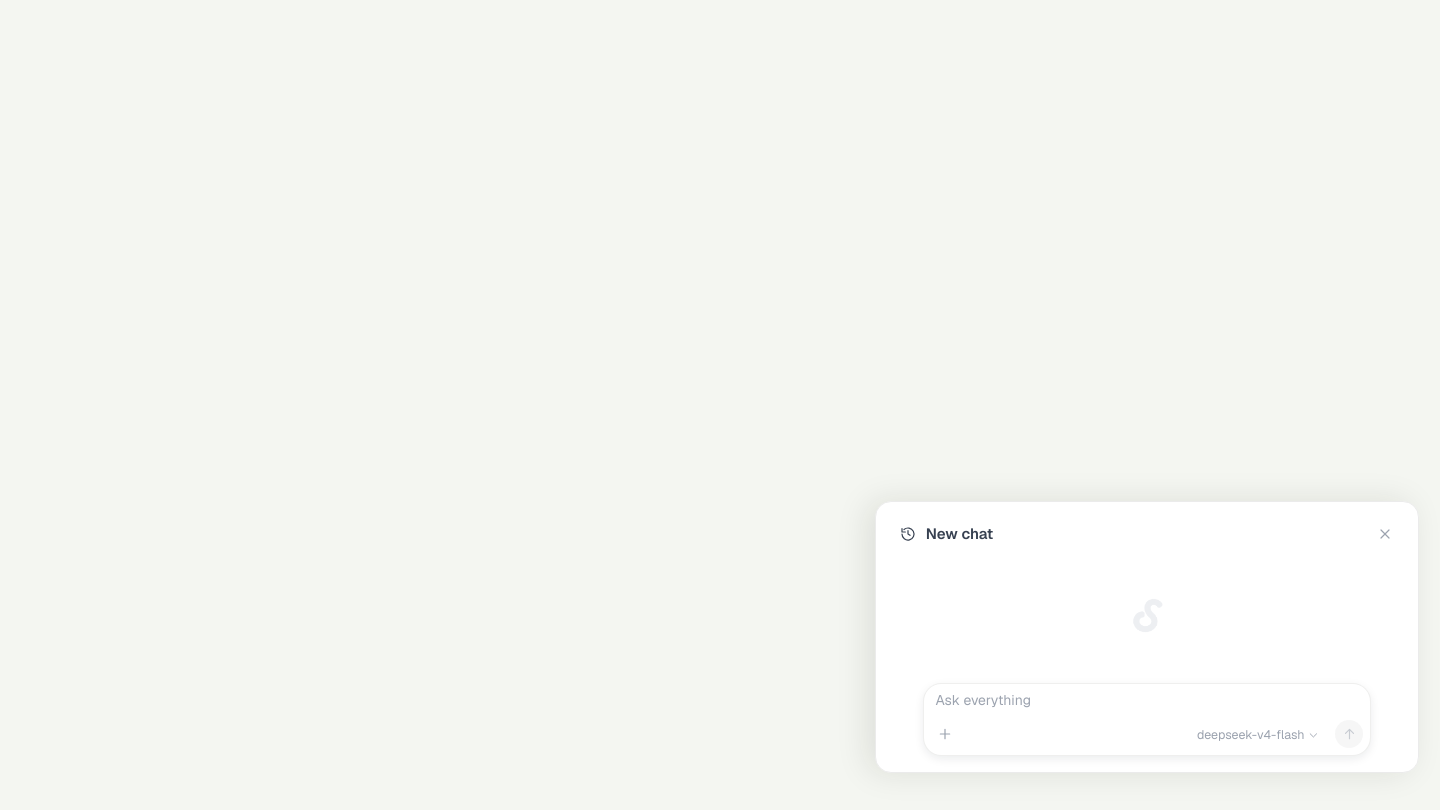
Scenario: WorkspaceAiChat composer › reenables submission and restores focus after a provider failure
Step 1. Type "Prima domanda" into the text box named "Messaggio per Ask to AI" → (1147, 706), box [935,691,1359,722]
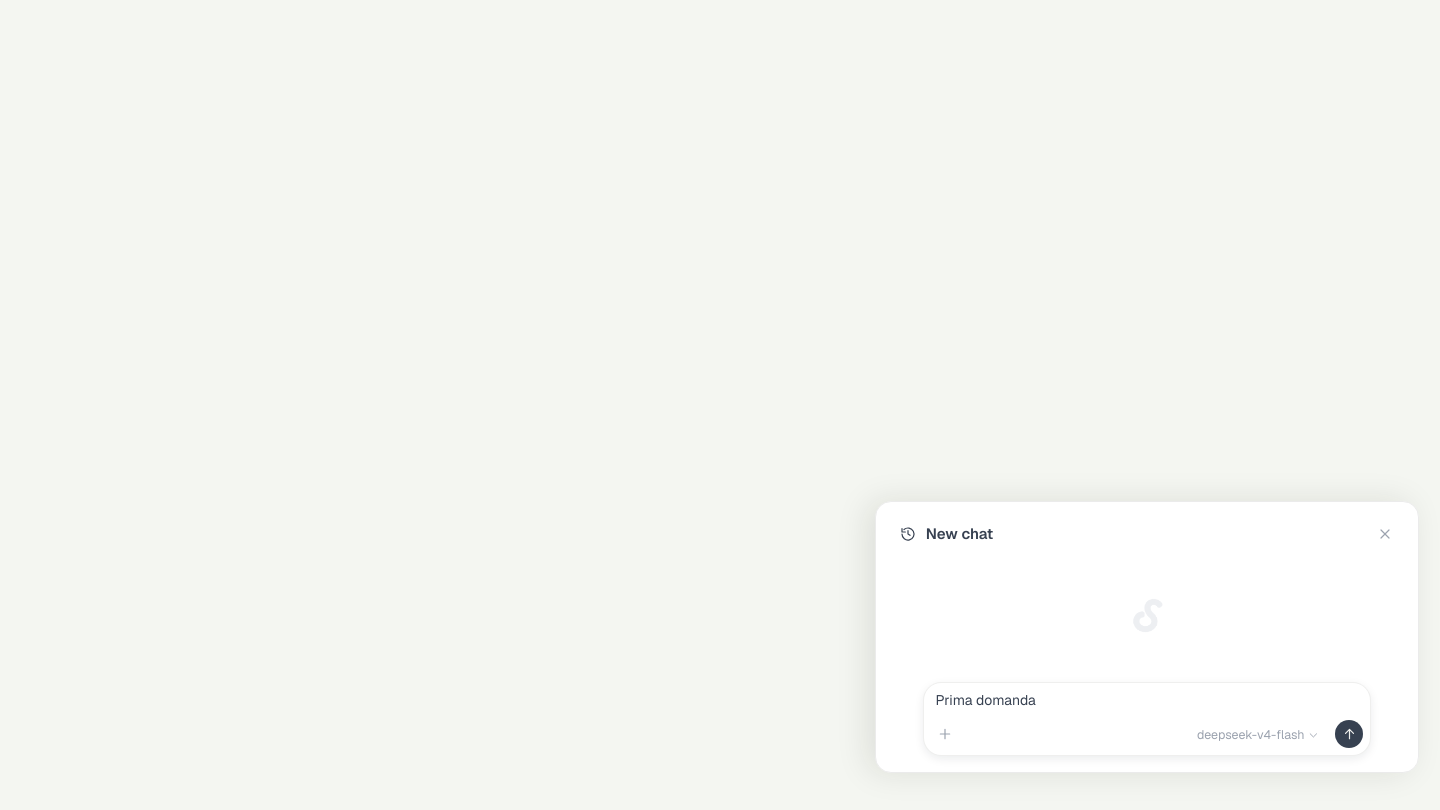
Step 2. Click the button named "Invia messaggio" → (1349, 734), box [1335,720,1363,748]
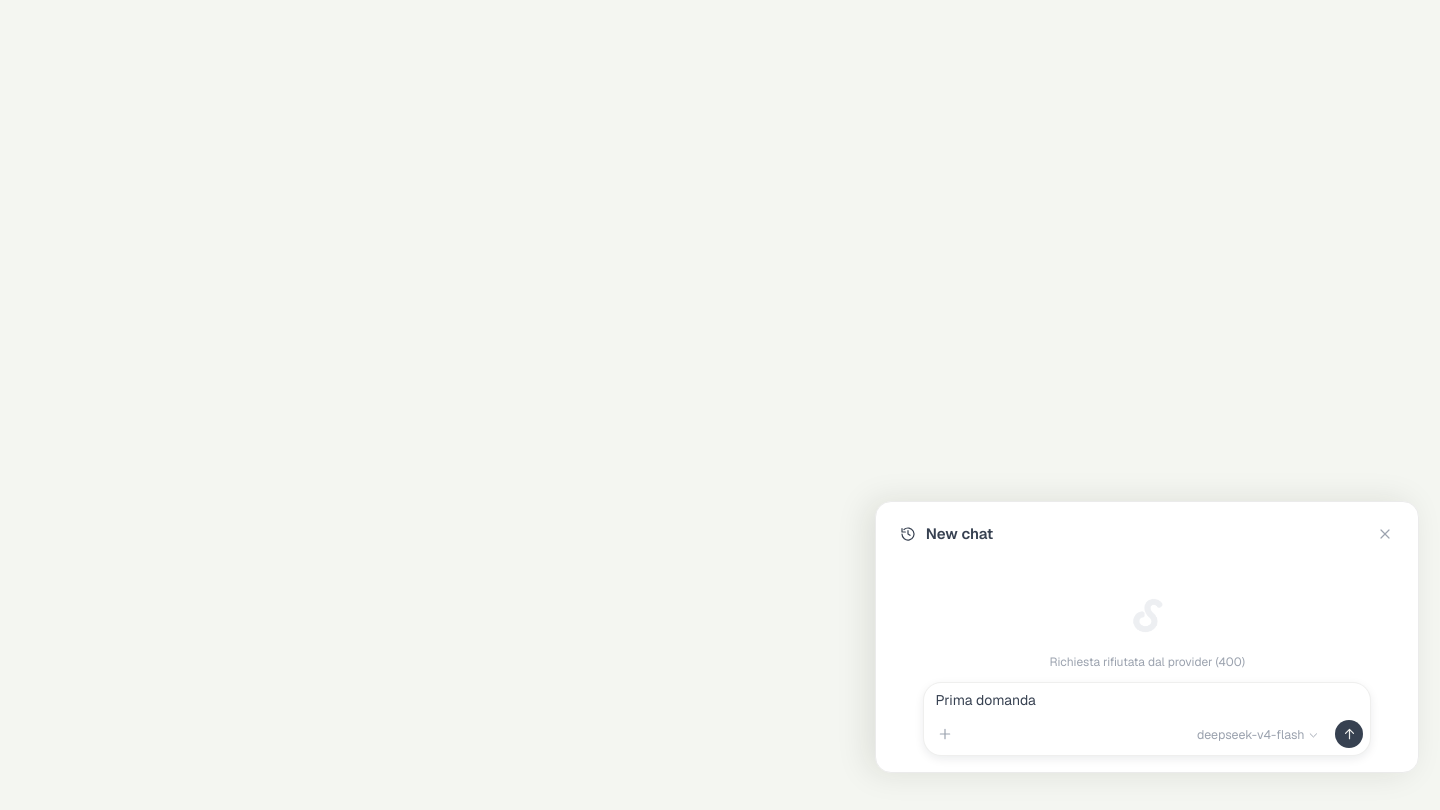
Expected: the button named "Invia messaggio" is enabled
Expected: the message shows "400", [1049,654,1245,670]
Step 3. Click the button named "Invia messaggio" → (1349, 734), box [1335,720,1363,748]
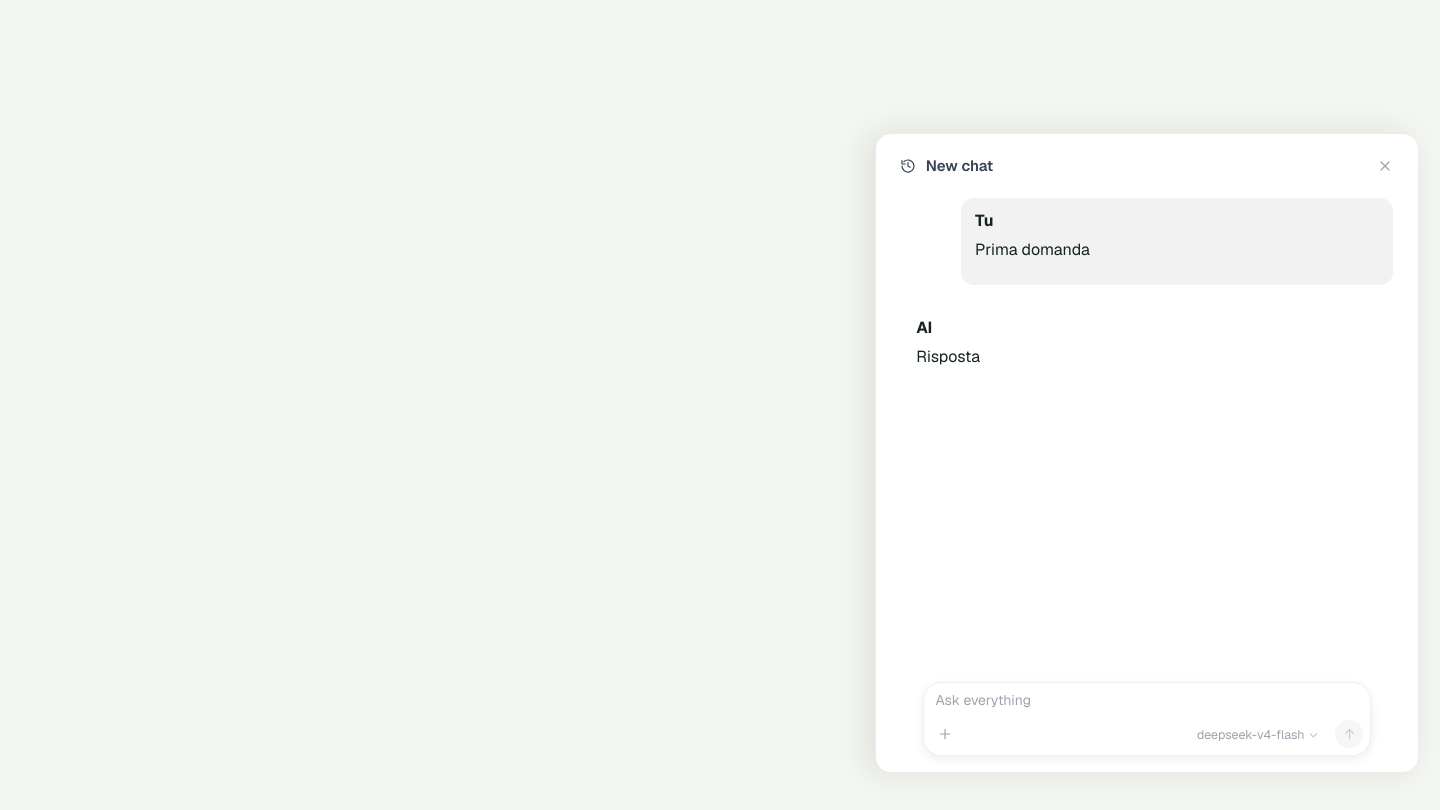
Expected: the text "Risposta" is shown, [916,346,980,367]
